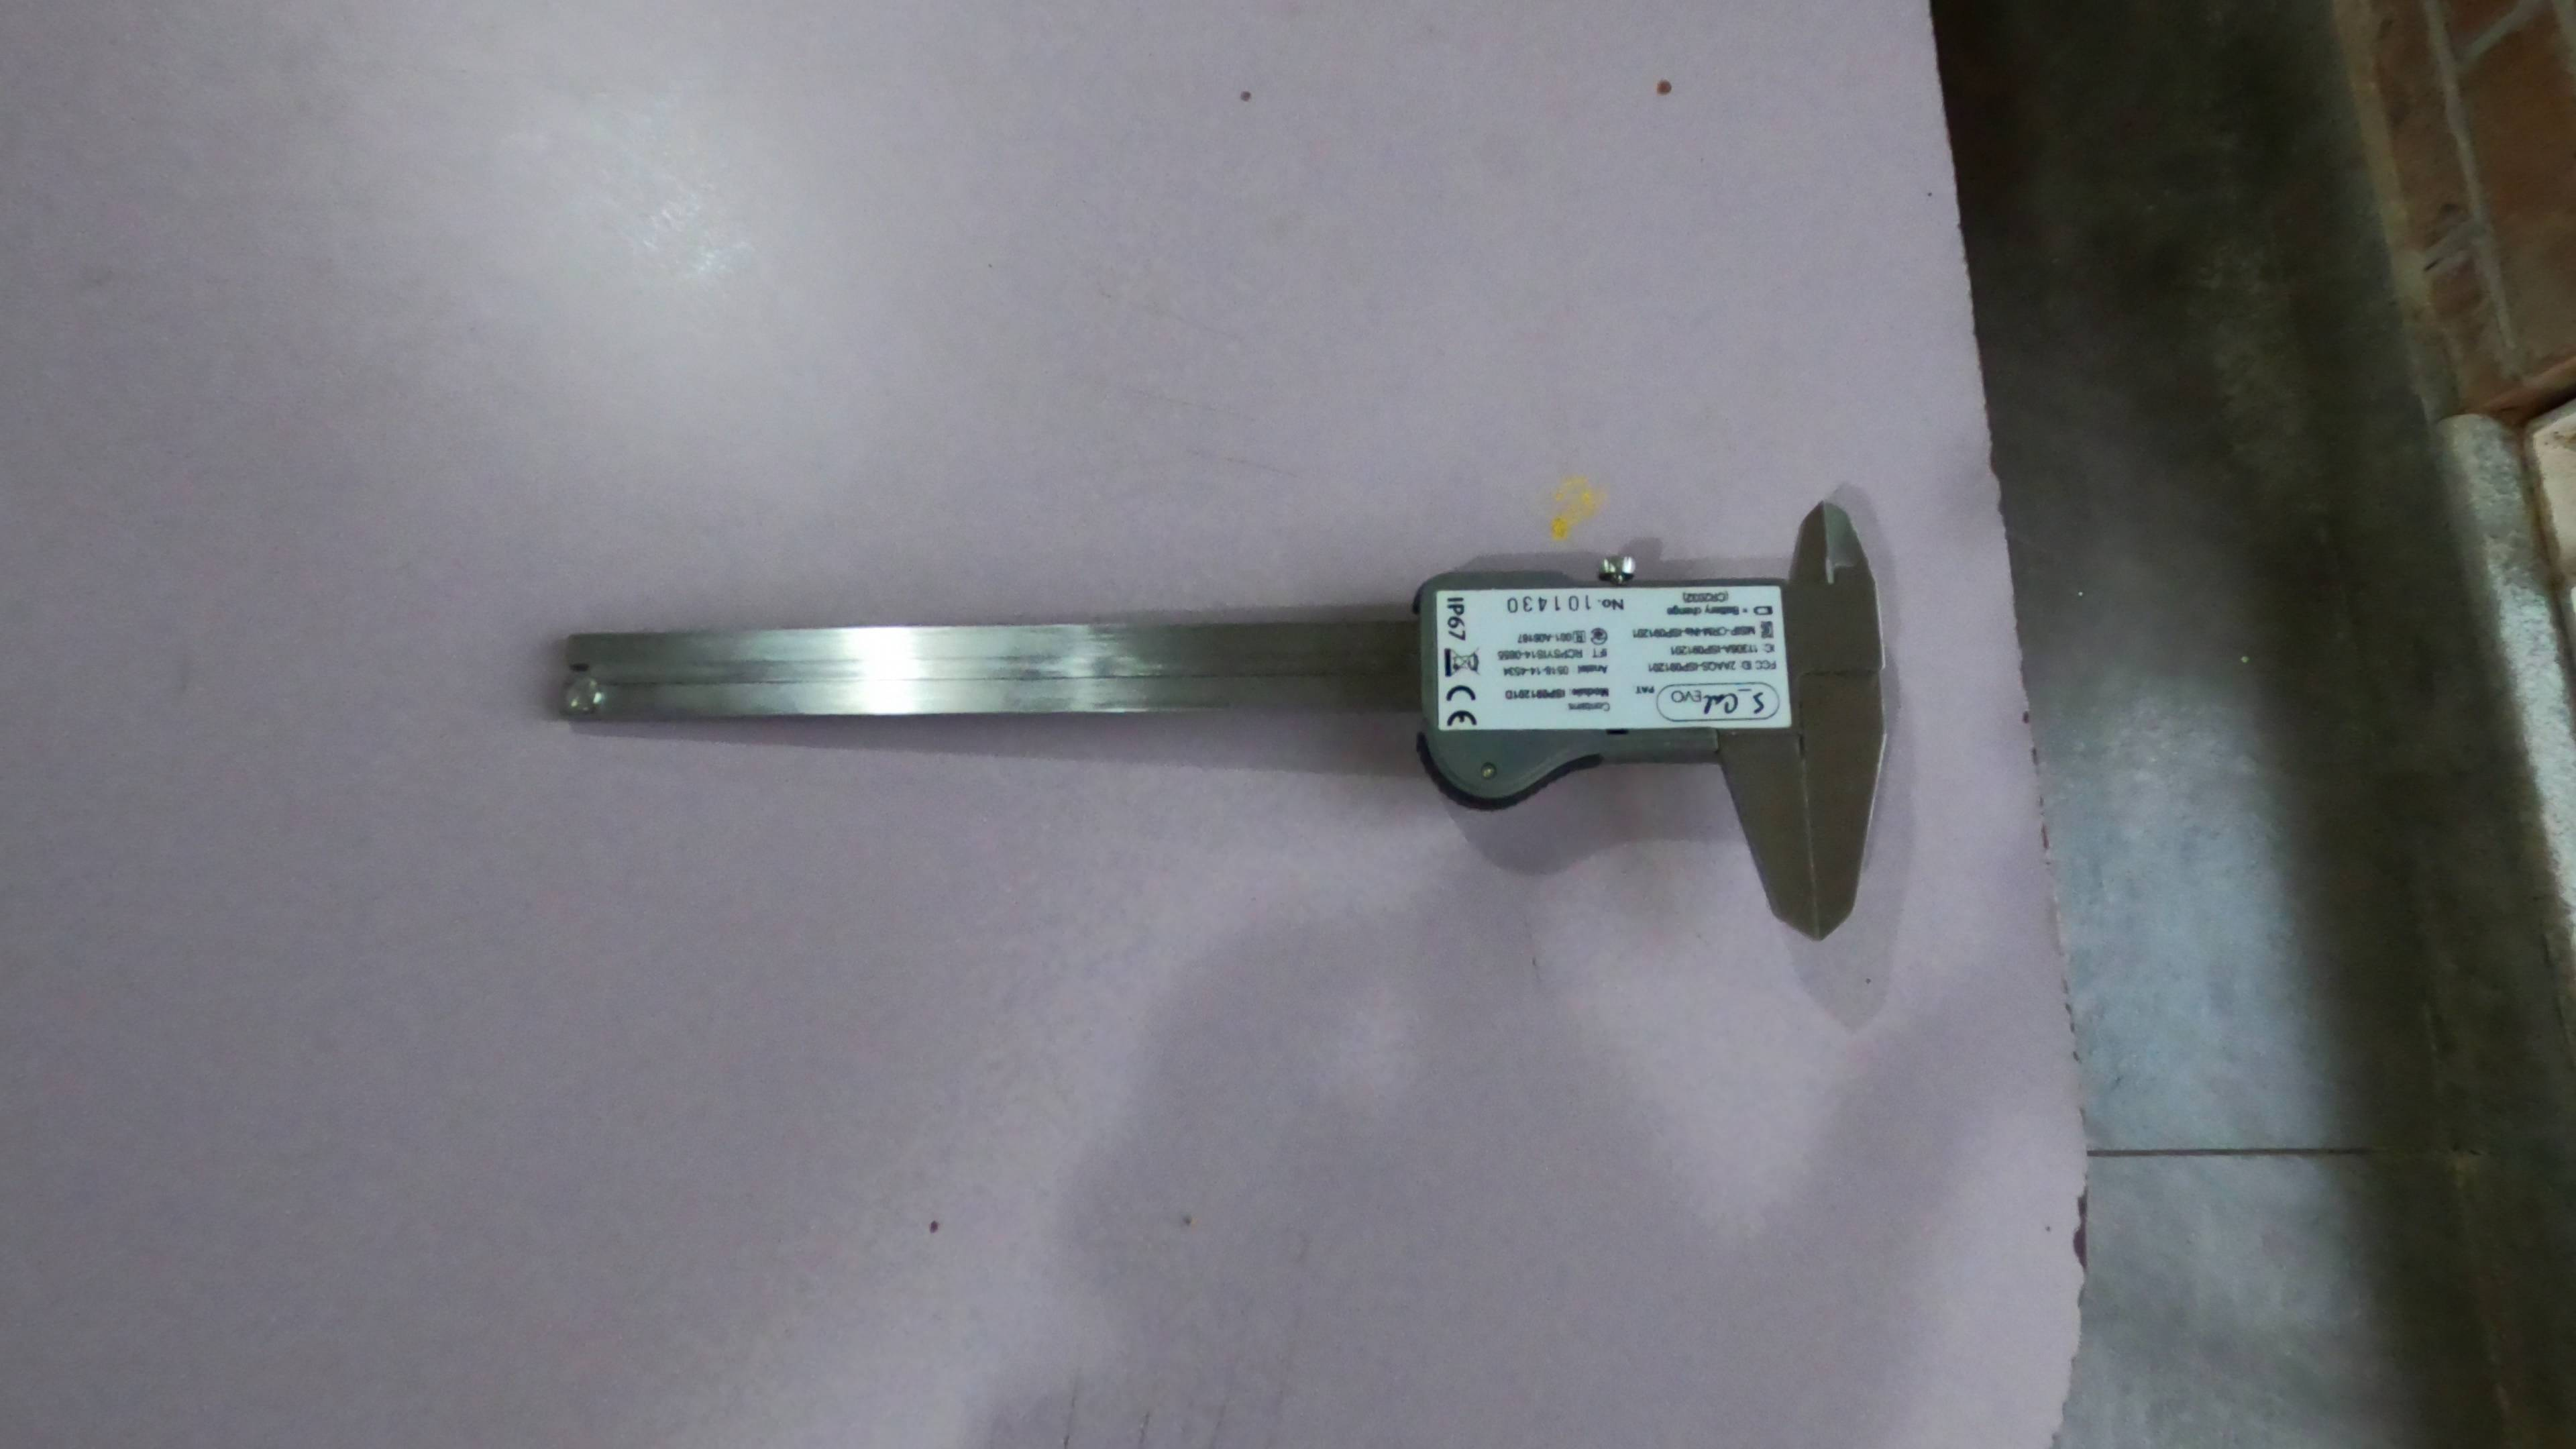vernier_caliper: (550, 479, 1891, 955)
